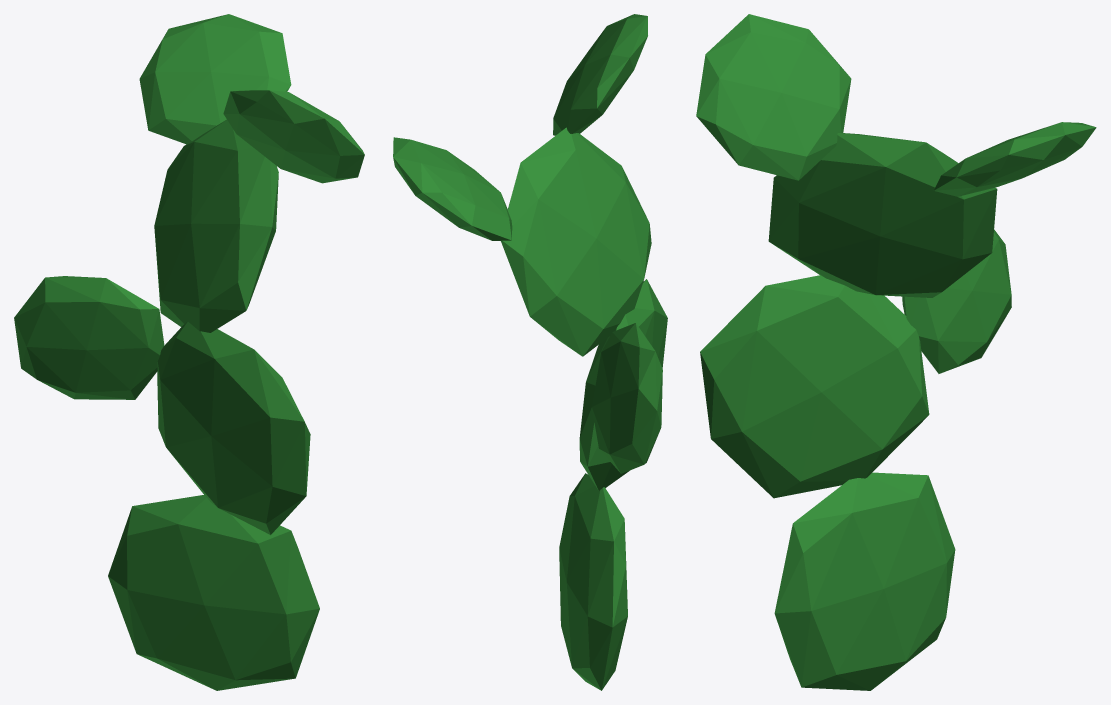
Rendered from Cactus3.fbx.
The picture shows the model from 3 angles, left to right: view 1: azimuth 30°, elevation 25°; view 2: azimuth 150°, elevation 25°; view 3: azimuth 270°, elevation 25°; orthographic projection. The views are drawn at different scales.
Visible parts, largest first — view 1: Cactus; view 2: Cactus; view 3: Cactus.
Part boxes in pixels (bbox=[...]): Cactus: bbox=[14, 14, 364, 690]; Cactus: bbox=[393, 14, 667, 690]; Cactus: bbox=[696, 14, 1096, 690].
Bounding box in the file's own units: 110 × 252 × 136.
